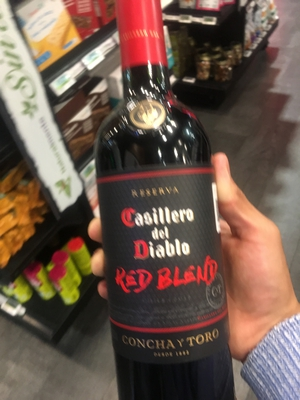casillero del diablo red blend: (89, 10, 244, 400)
